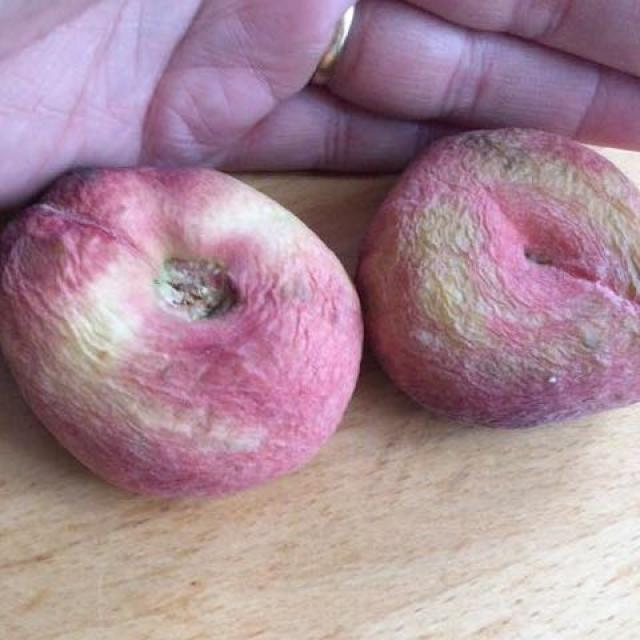peach: (17, 125, 636, 512)
